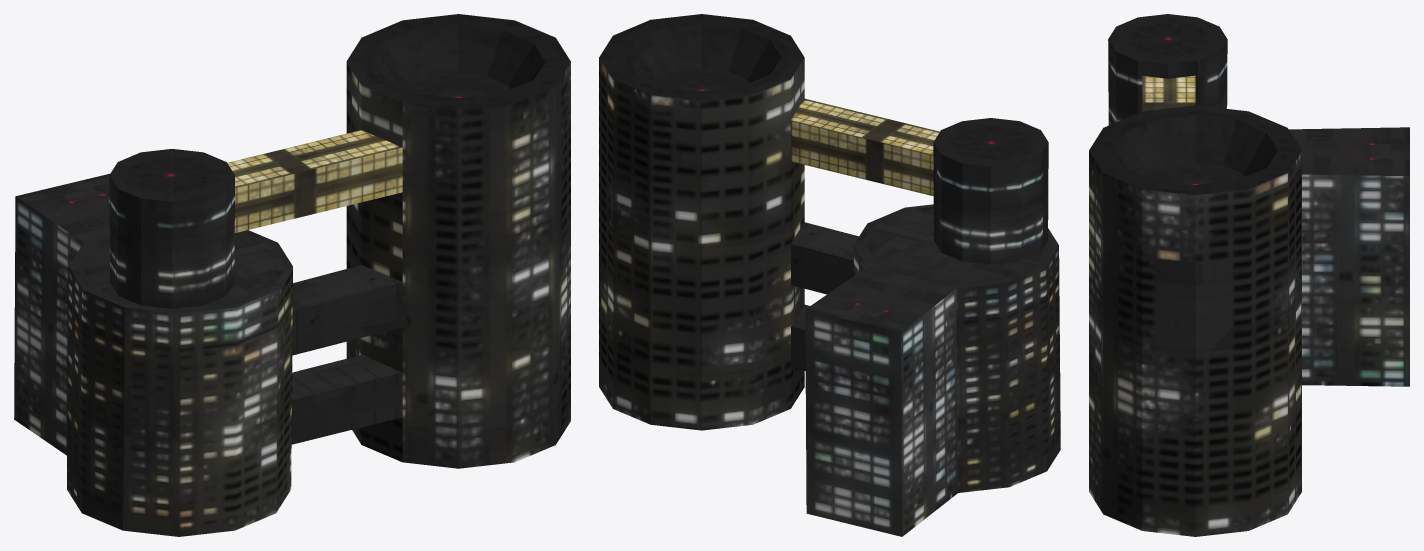
Rendered from scifi_building_43.obj.
3 views of the same model, side by side, from view 1: azimuth 30°, elevation 25°; view 2: azimuth 150°, elevation 25°; view 3: azimuth 270°, elevation 25° (orthographic). The views are drawn at different scales.
Parts seen in each view (by area): view 1: building_43; view 2: building_43; view 3: building_43.
Part boxes in pixels (<box>): building_43: <box>14,14,570,536</box>; building_43: <box>599,14,1060,536</box>; building_43: <box>1089,14,1409,536</box>.
Bounding box in the file's own units: 116 × 84.03 × 71.5.
1 material, 1 textured.
